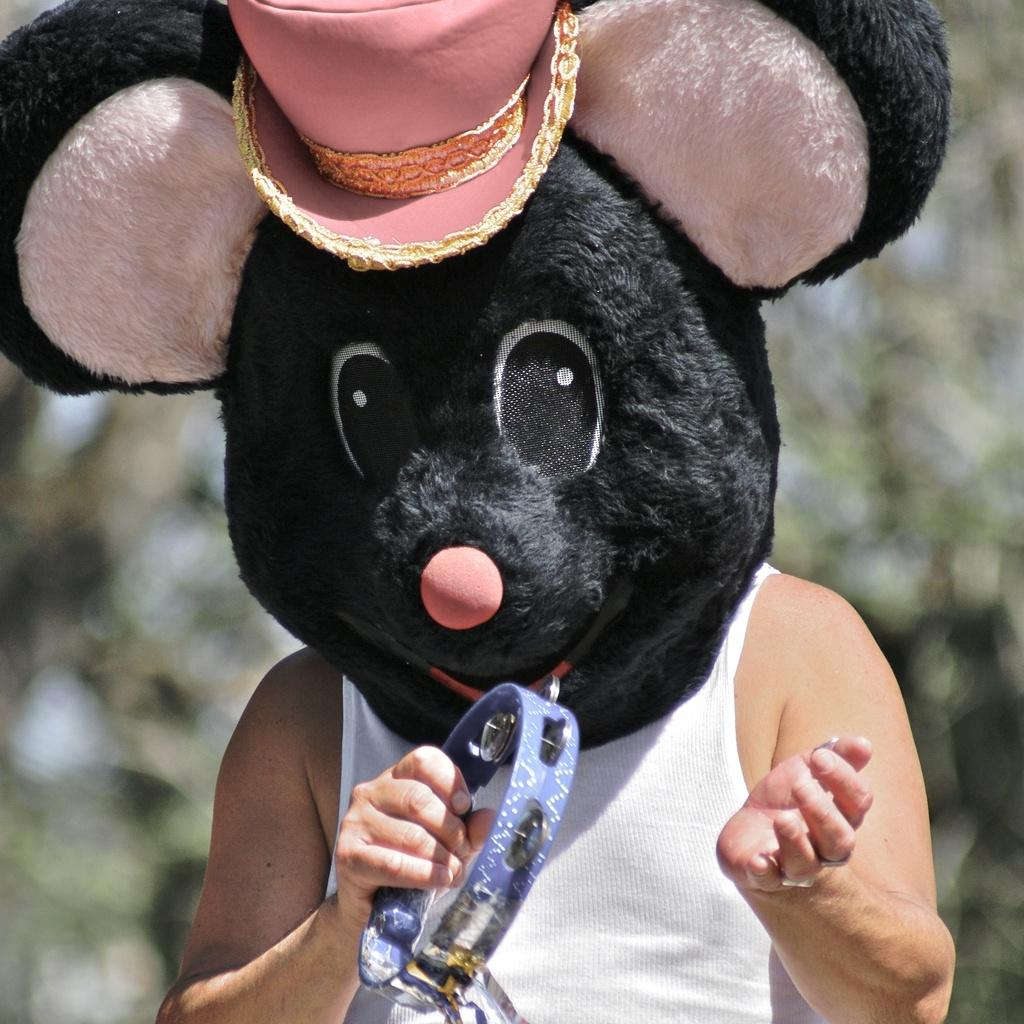Hat: (230, 0, 578, 273)
